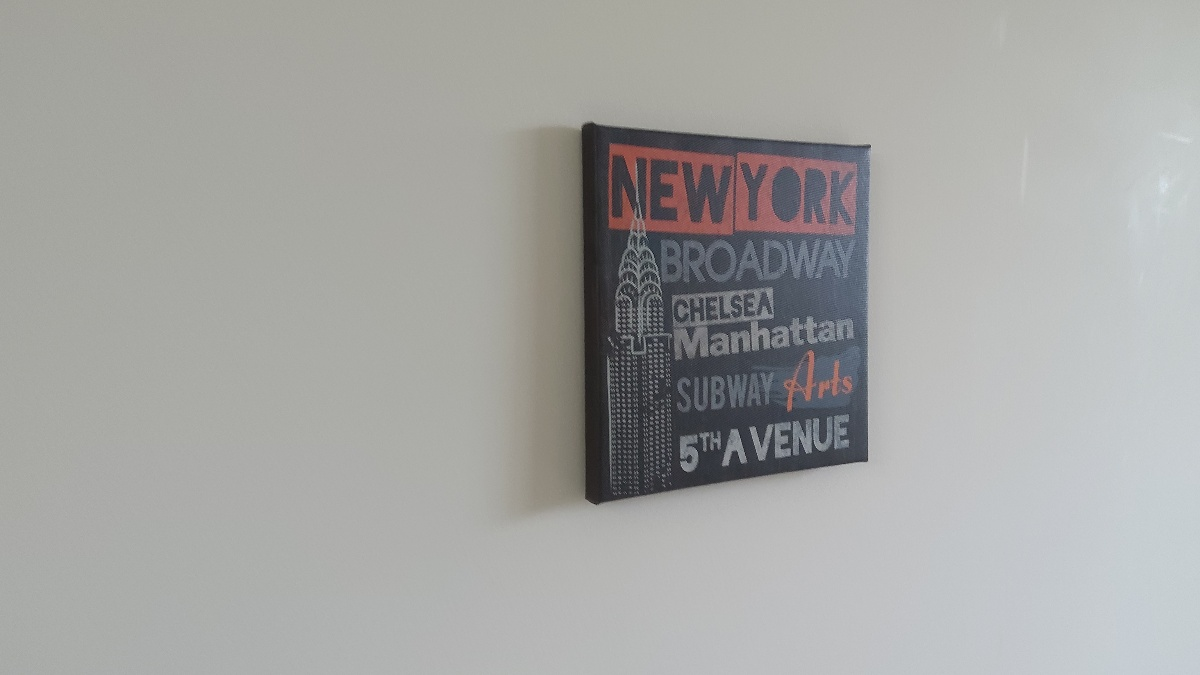poster: (585, 117, 876, 519)
